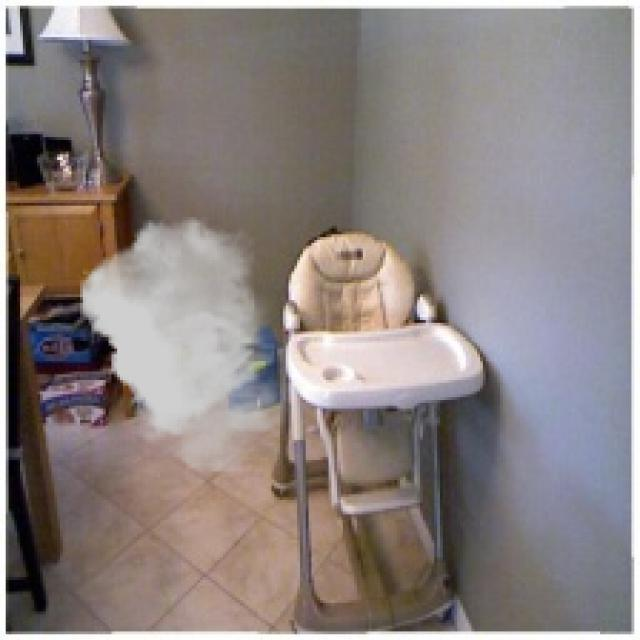Smoke: (80, 217, 292, 472)
